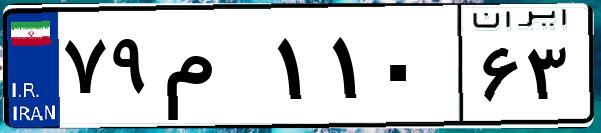0: (385, 28, 445, 110)
1: (270, 28, 330, 110), (330, 28, 385, 110)
3: (525, 38, 570, 115)
6: (475, 38, 525, 113)
7: (57, 26, 110, 100)
9: (110, 28, 158, 98)
م: (158, 20, 270, 120)
